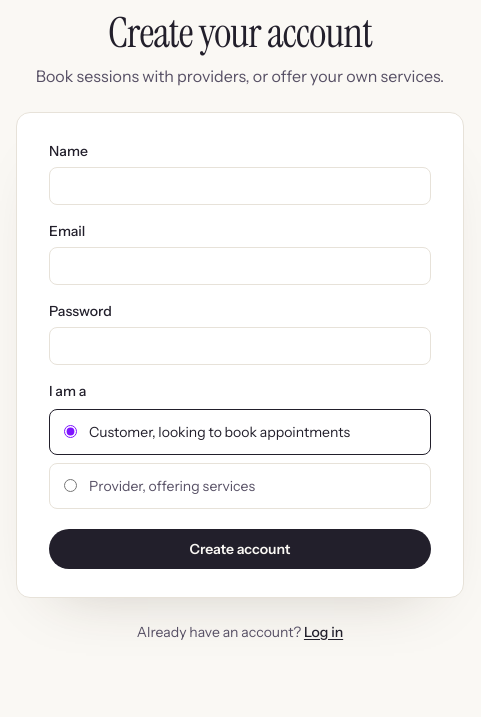
it: Register › does not submit when the password is shorter than 8 characters
In the field labelled "Name": (240, 186) [49,167,431,205], type "Jamie Provider"
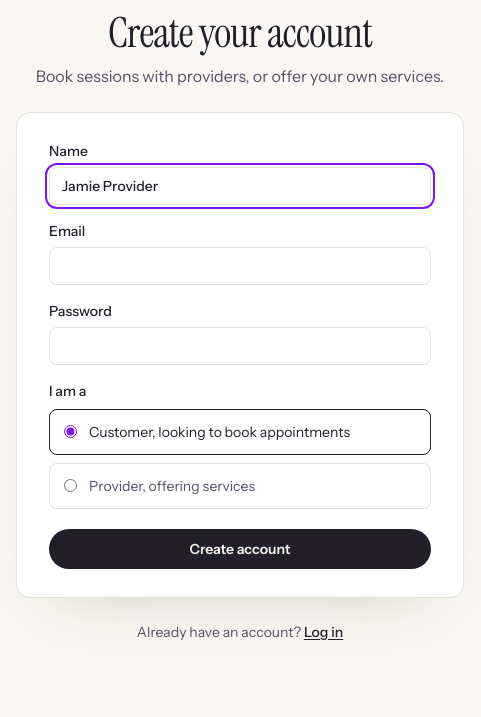
In the field labelled "Email": (240, 266) [49,247,431,285], type "jamie@example.com"
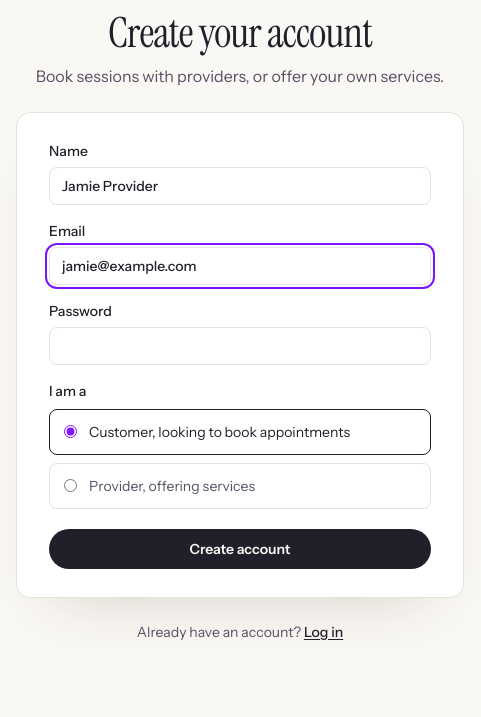
In the password field labelled "Password": (240, 346) [49,327,431,365], type "short"
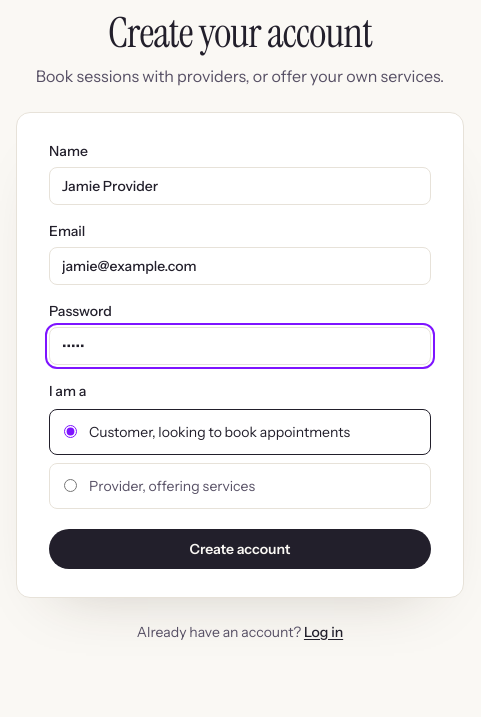
Click the button "Create account": click(240, 549) [49,529,431,569]
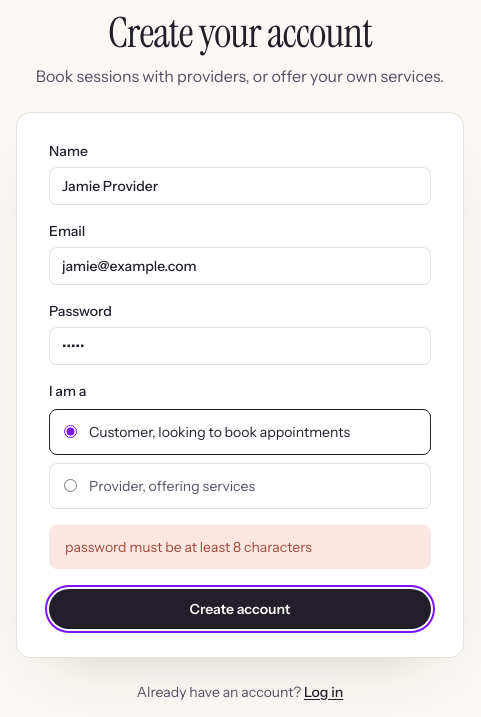
Expected: the text "password must be at least 8 characters" is shown, [49,525,431,569]
